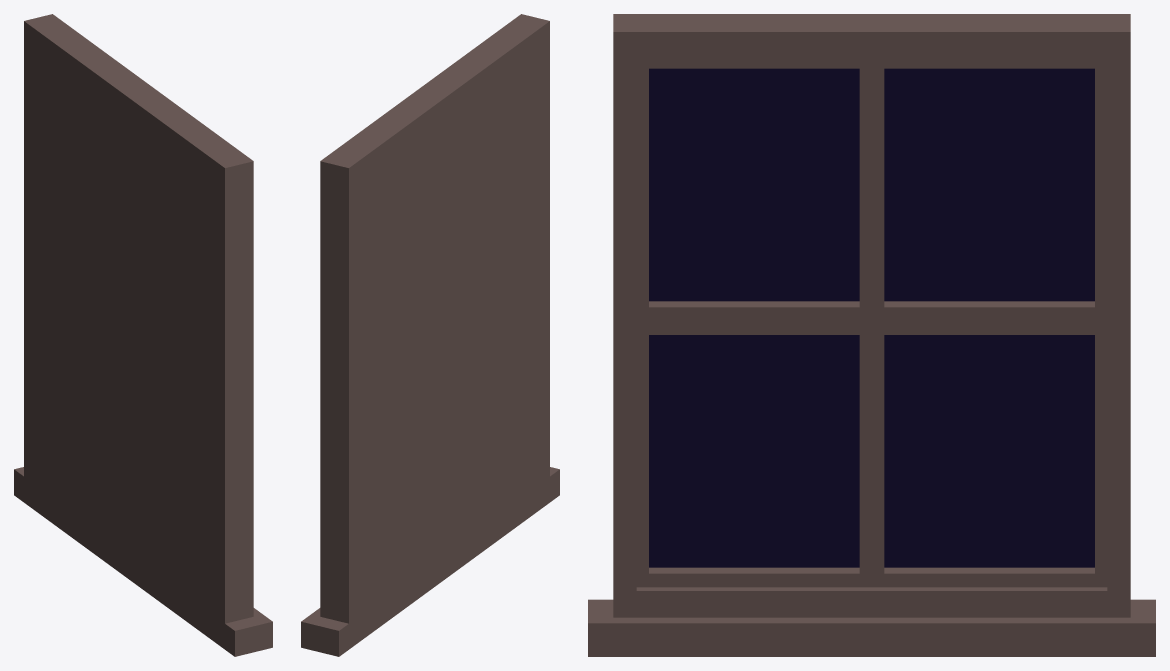
Rendered from window.fbx.
3 views of the same model, side by side, from view 1: azimuth 30°, elevation 25°; view 2: azimuth 150°, elevation 25°; view 3: azimuth 270°, elevation 25° (orthographic). The views are drawn at different scales.
Visible parts, largest first — view 1: Cube; view 2: Cube; view 3: Cube.
Boxes of the visible parts, <box> form: Cube: <box>14,14,272,656</box>; Cube: <box>301,14,559,656</box>; Cube: <box>588,14,1155,656</box>.
Bounding box in the file's own units: 12.76 × 155 × 128.
